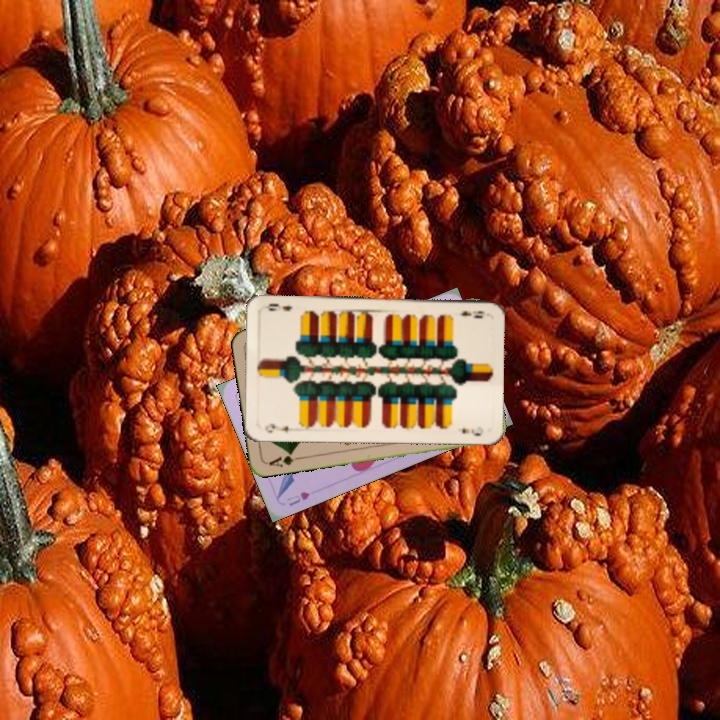E9: (261, 420, 291, 435), (456, 307, 487, 320)
GA: (265, 448, 304, 469)
HU: (283, 487, 312, 509)
